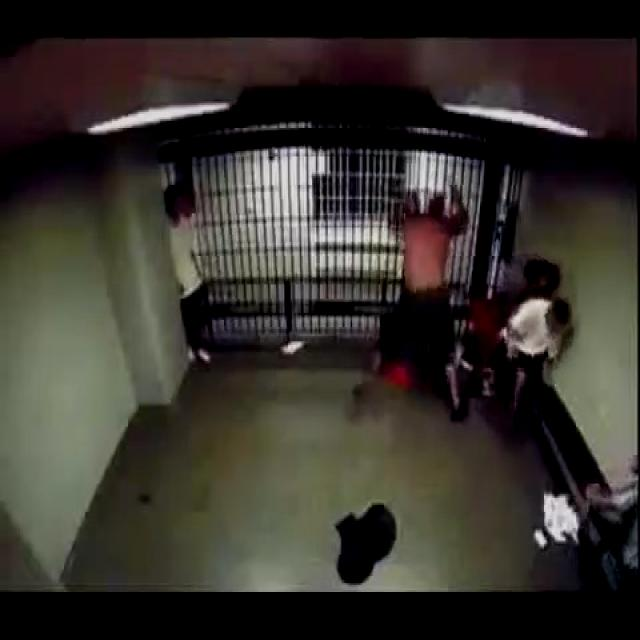fight: (360, 168, 499, 414)
